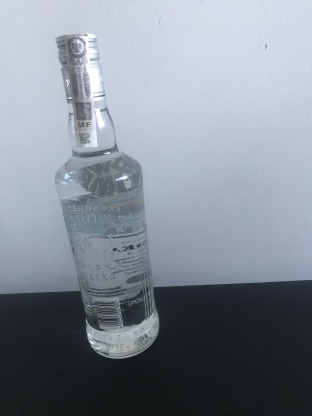nakretka: (52, 29, 107, 105)
